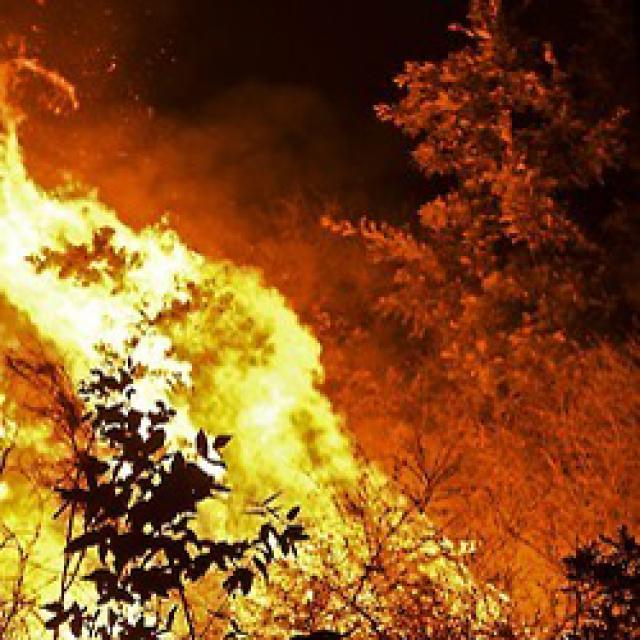Fire: (0, 25, 507, 640)
